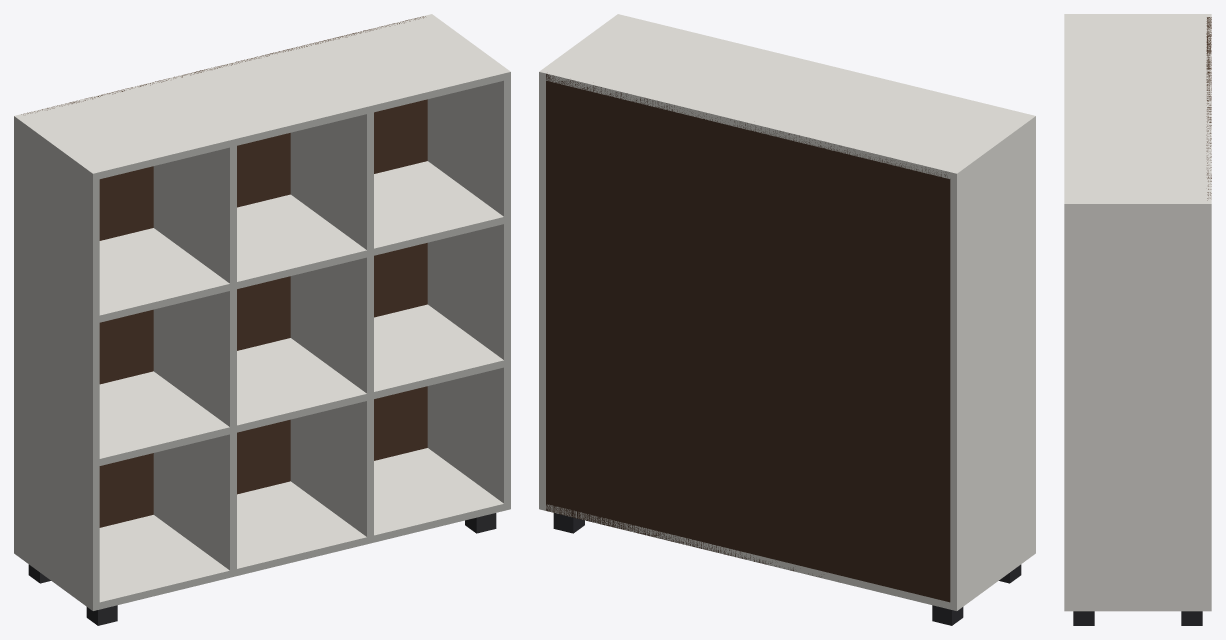
File: FN_Shelf_Cube.obj
3 renders of one model, left to right at view 1: azimuth 30°, elevation 25°; view 2: azimuth 150°, elevation 25°; view 3: azimuth 270°, elevation 25°, orthographic. The views are drawn at different scales.
Visible parts, largest first — view 1: FN_Shelf_Cube; view 2: FN_Shelf_Cube; view 3: FN_Shelf_Cube.
Part boxes in pixels (<box>): FN_Shelf_Cube: <box>14,14,510,625</box>; FN_Shelf_Cube: <box>539,14,1035,625</box>; FN_Shelf_Cube: <box>1064,14,1211,625</box>.
Bounding box in the file's own units: 1.1 × 1.15 × 0.36.
Materials: 1 (1 with a texture image).
